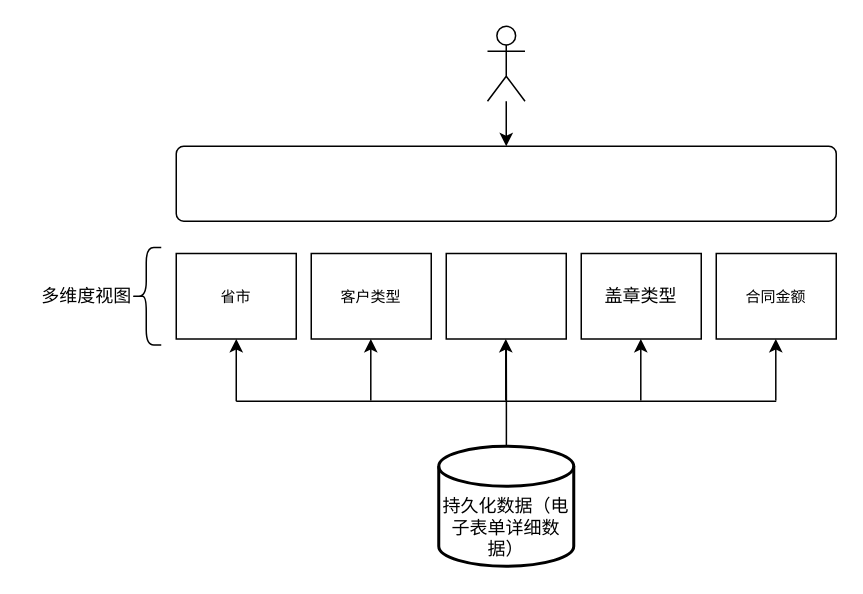
Image size: 863x594. Some labels were removed from this diagram. Each missing label, with the box of its shape:
大屏应用: (175, 145, 836, 221)
签订时长: (445, 252, 566, 339)
